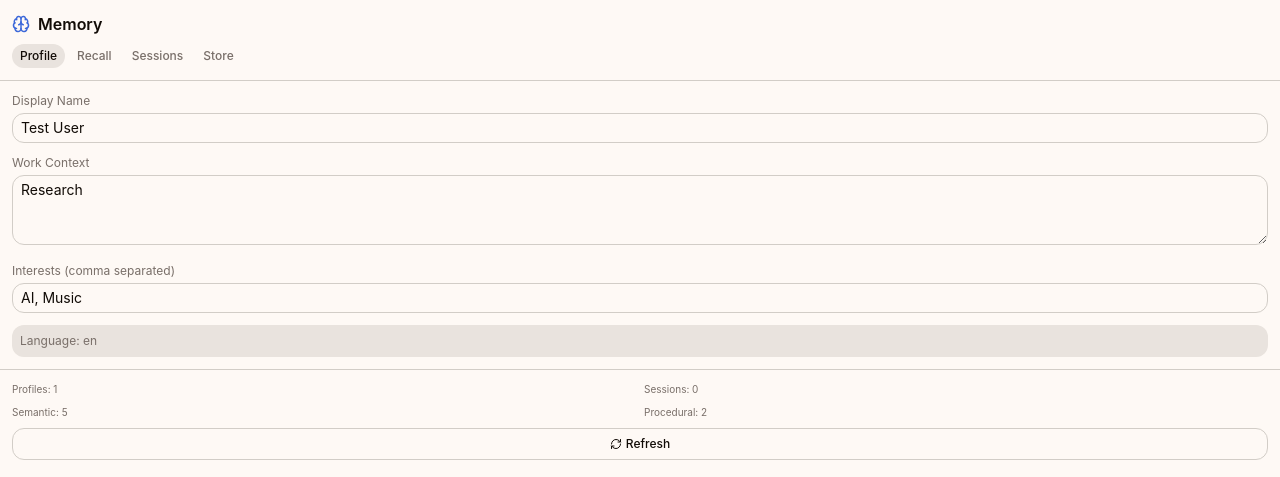
Test: MemoryPanel › switches to store tab on click
The width and height of the screenshot is (1280, 477).
Click the button "Store" at (218, 56), box [195,44,242,68]
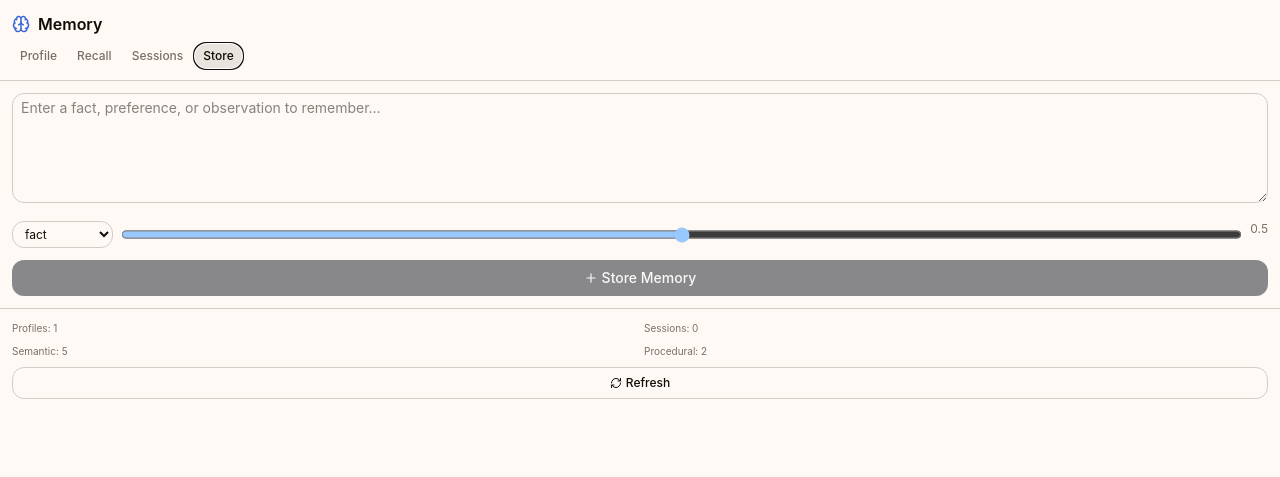
Now the text box with placeholder "Enter a fact, preference, or observation to remember…" is shown, box [12,93,1268,203]
